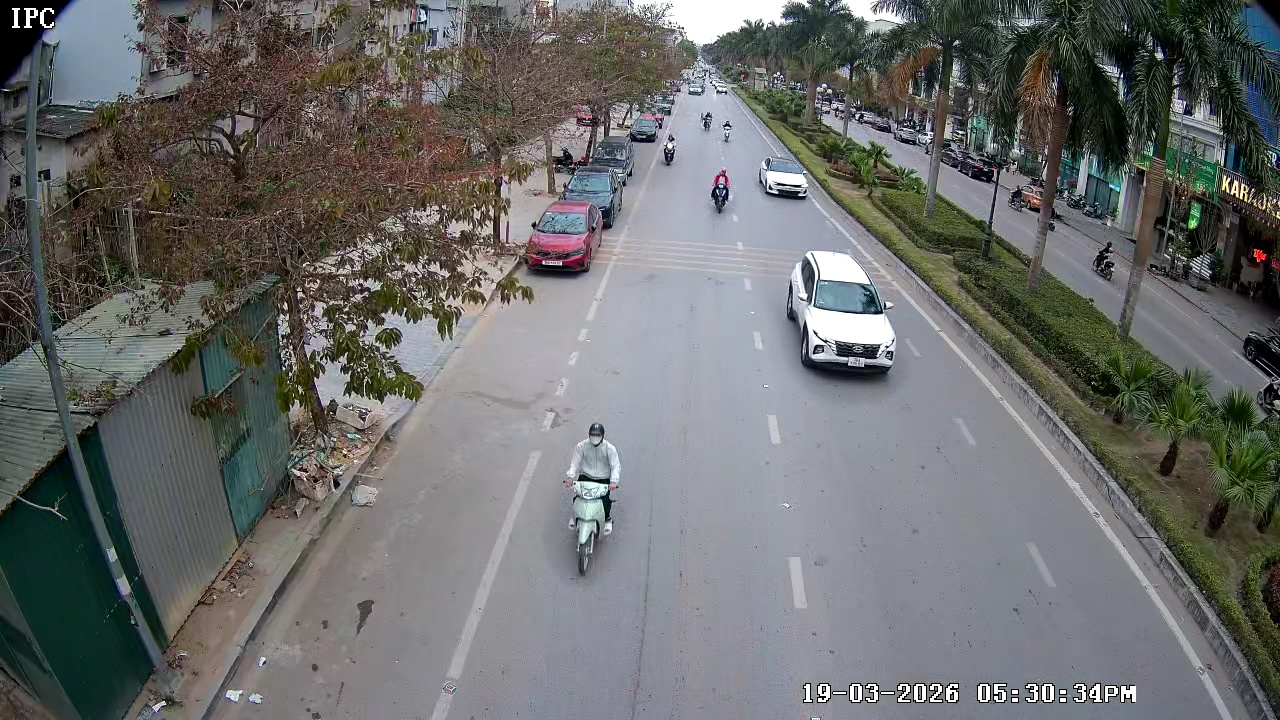car: (785, 249, 897, 373), (525, 199, 600, 276), (757, 155, 809, 200)
motorbike: (563, 421, 624, 577), (711, 166, 737, 214), (660, 131, 678, 167), (701, 110, 715, 135), (721, 118, 735, 142)
